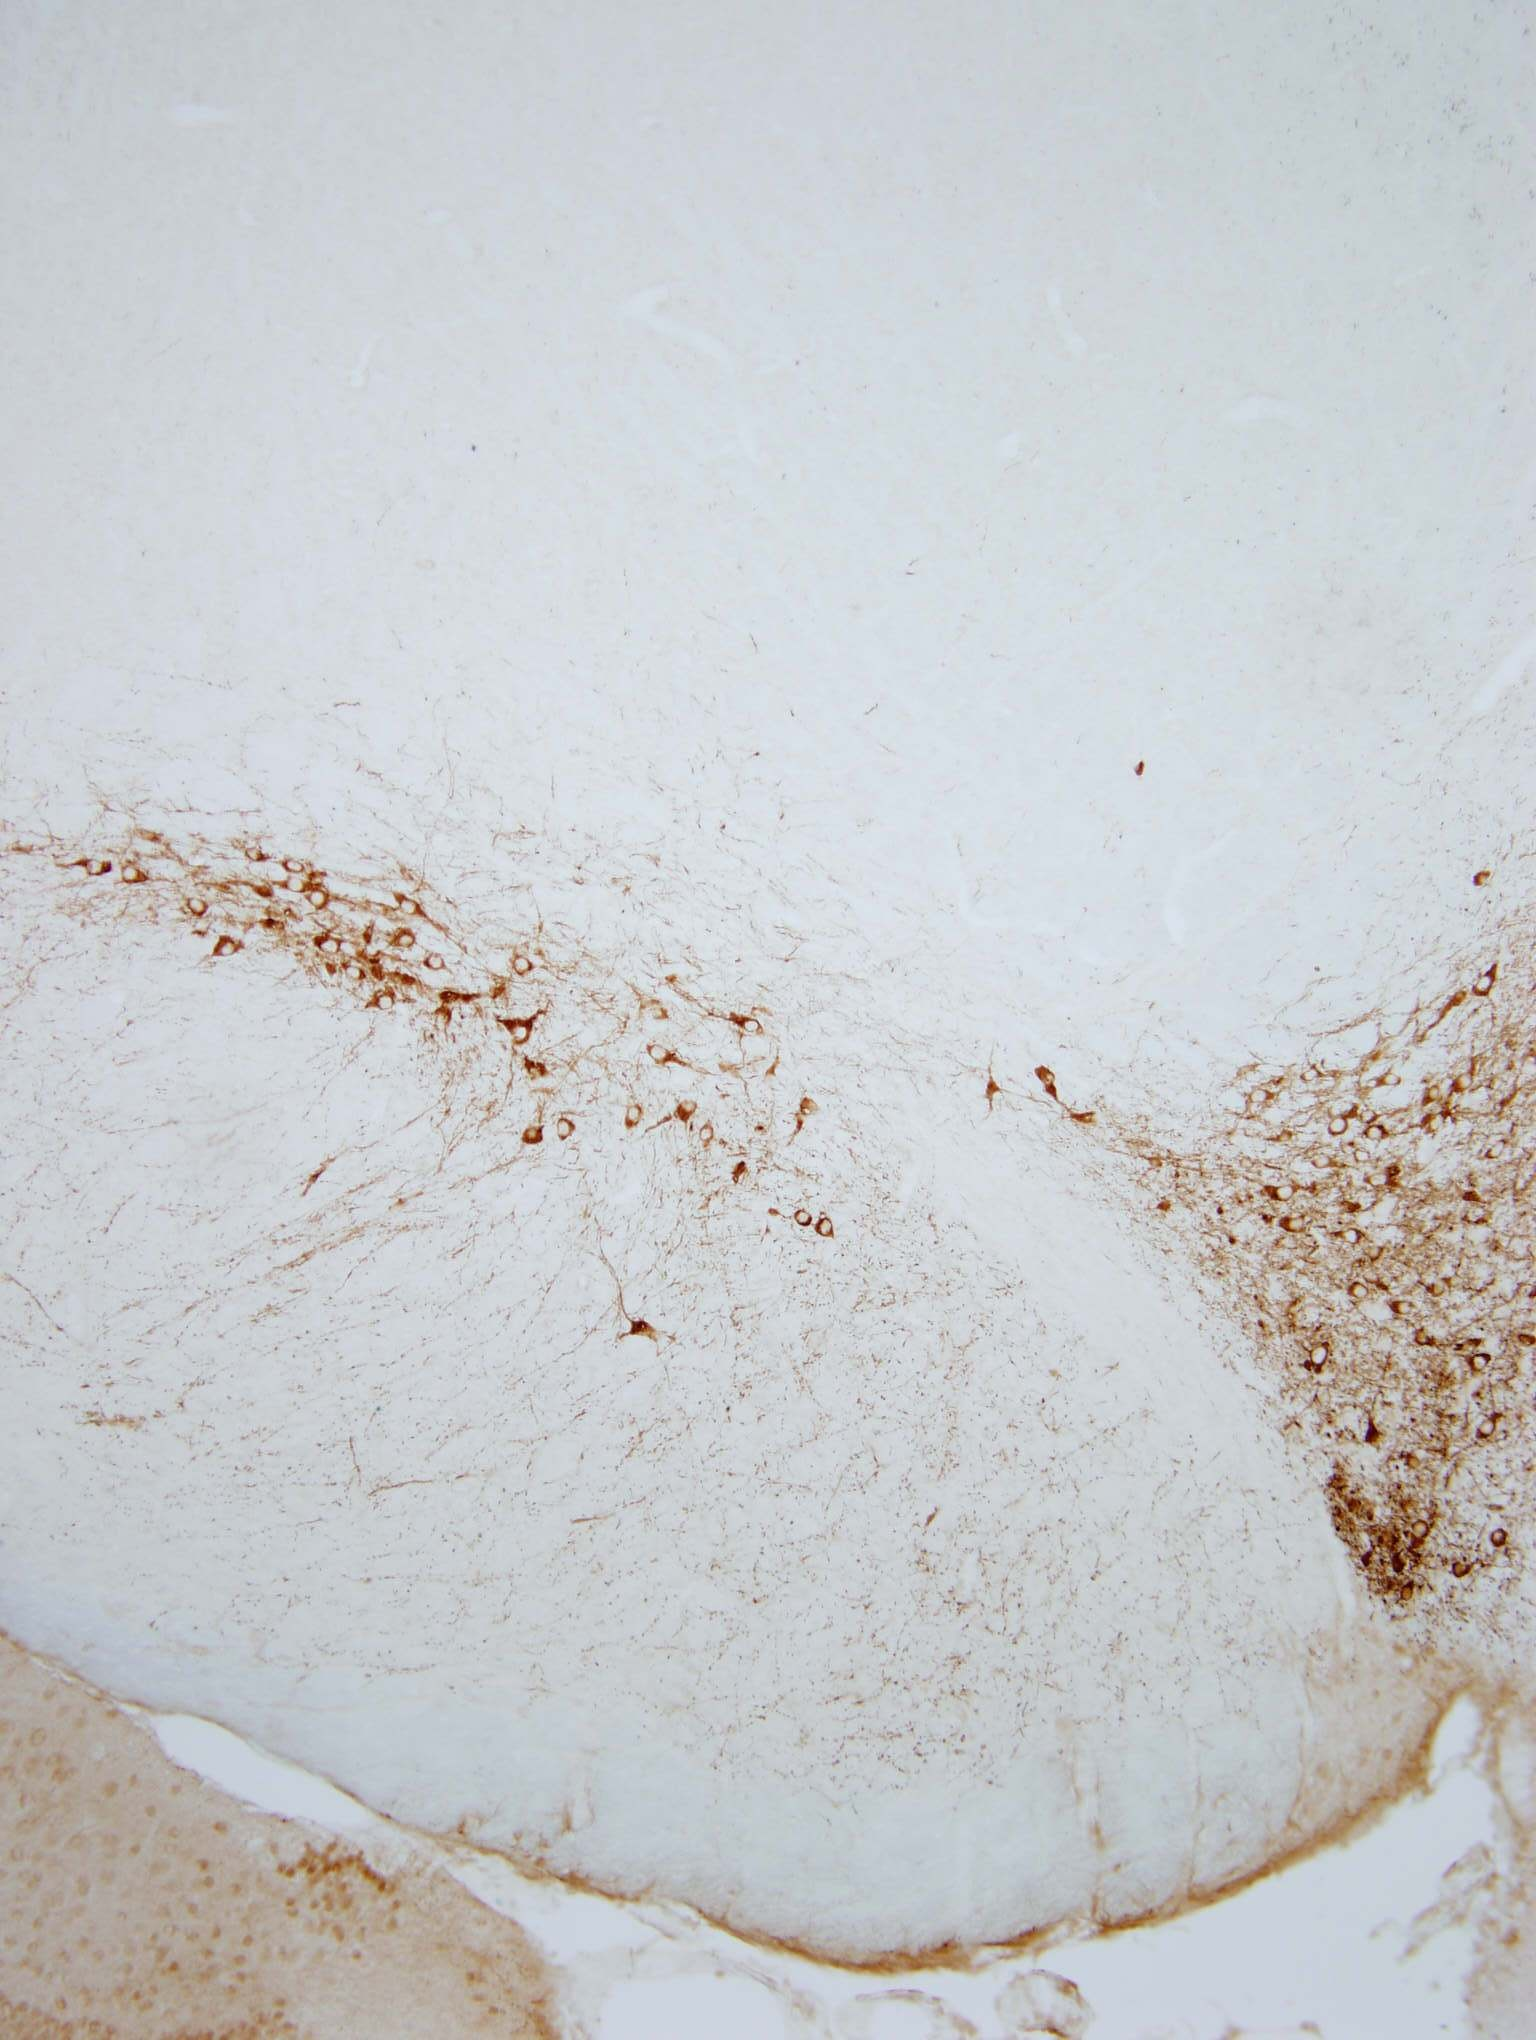neuron: (182, 885, 219, 922), (616, 1098, 653, 1135), (116, 856, 152, 893), (1242, 1079, 1279, 1114), (1276, 1208, 1313, 1243), (1321, 1108, 1359, 1143), (1338, 1221, 1375, 1256), (1342, 1274, 1379, 1309), (1362, 1164, 1397, 1201), (1375, 1063, 1412, 1098), (1384, 1290, 1421, 1326), (1413, 1074, 1450, 1110), (1418, 1101, 1455, 1137), (1418, 1271, 1455, 1306), (1463, 1347, 1499, 1384), (1467, 966, 1504, 1001), (211, 927, 247, 964), (303, 882, 340, 918), (311, 927, 347, 964), (337, 953, 374, 989), (366, 984, 403, 1019), (390, 890, 428, 926), (419, 943, 455, 980), (503, 1013, 541, 1048), (549, 1113, 586, 1148), (733, 1010, 770, 1045), (81, 848, 116, 885), (1270, 1174, 1305, 1209), (1299, 1056, 1334, 1092), (1304, 1338, 1339, 1374), (1307, 1145, 1342, 1180), (1362, 1118, 1397, 1153), (1412, 1324, 1447, 1359), (1449, 1064, 1484, 1100), (1471, 1411, 1507, 1447), (1480, 1132, 1515, 1168), (281, 869, 316, 905), (387, 922, 423, 958), (507, 947, 542, 982), (644, 1037, 679, 1072), (670, 1090, 705, 1126), (692, 1114, 728, 1150), (810, 1211, 845, 1247), (1350, 1142, 1375, 1166), (1357, 1101, 1381, 1126), (1402, 1450, 1426, 1474), (1450, 1558, 1475, 1582), (1489, 1526, 1513, 1550), (245, 843, 269, 868), (284, 851, 308, 876), (792, 1206, 816, 1230), (1396, 1580, 1418, 1605), (1412, 1518, 1434, 1542)
